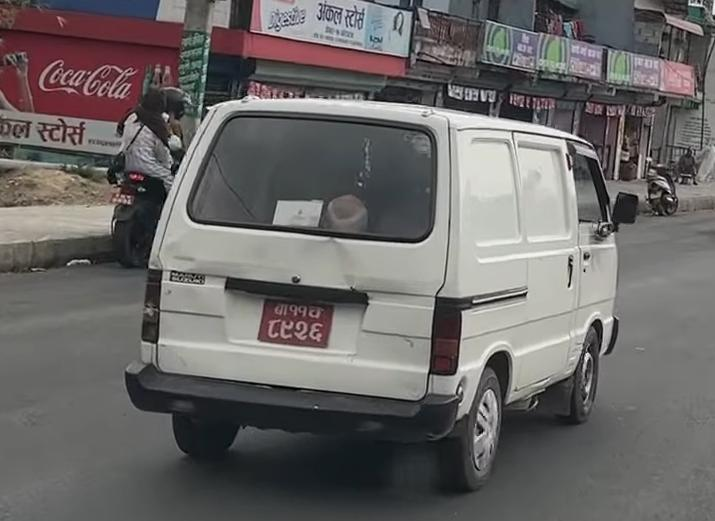van: (122, 85, 644, 501)
